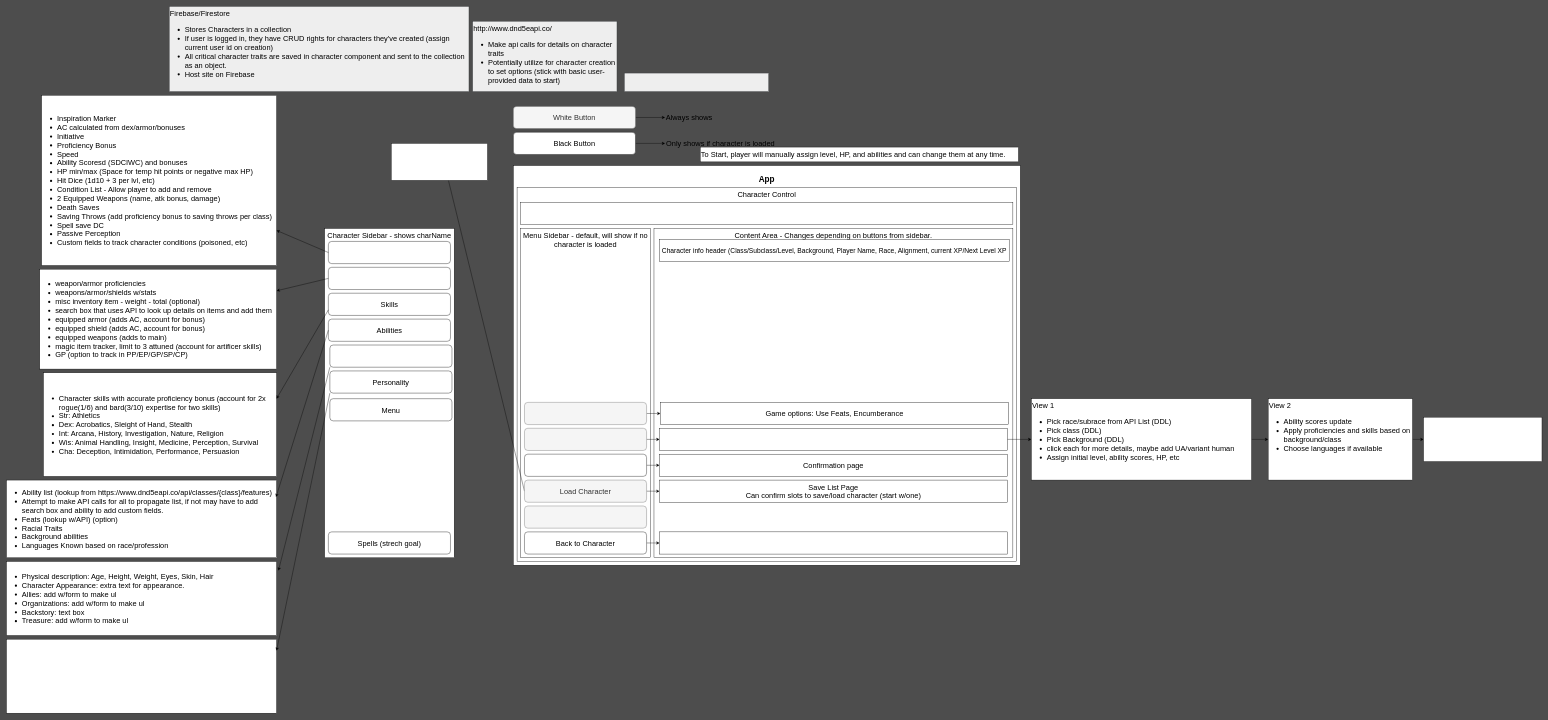
This 1548x720 diagram has some shape labels left out. Here are the shapes that lost their labels. From the top down, the centre of each, then its label:
(x=696, y=82): Will use/learn Semantic UI React for styling
(x=439, y=161): List of chars made by user, selecting one sets currentChar in state
(x=766, y=213): Header - Text changes dependent on page
(x=389, y=252): Main
(x=389, y=278): Inventory
(x=390, y=356): Description
(x=585, y=413): Options
(x=585, y=439): New Character
(x=833, y=439): New Character form, cycle through views with counter.
(x=1482, y=439): View 3 Name (mandatory) Physical/Mental data (optional
(x=585, y=465): Delete Character
(x=585, y=517): Save Character
(x=833, y=543): Character Info Pages
(x=141, y=676): Personality Traits Ideals Bonds Flaws
